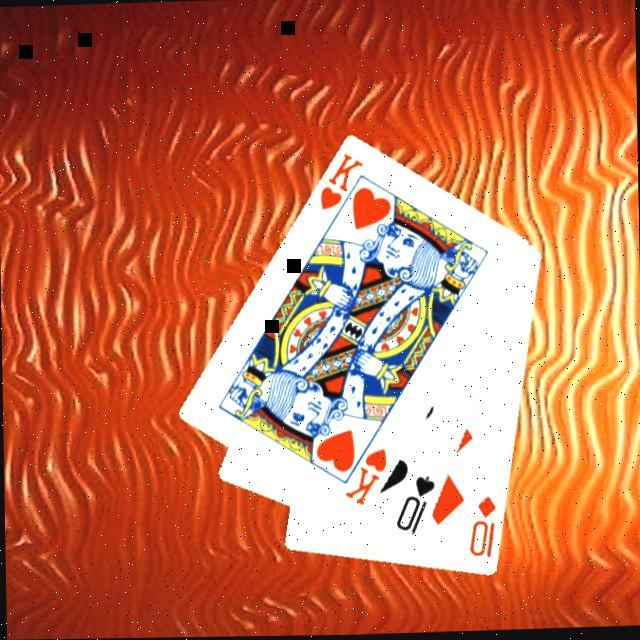10D: (466, 494, 501, 563)
10S: (393, 473, 440, 541)
KH: (341, 446, 392, 512), (316, 152, 367, 216)
